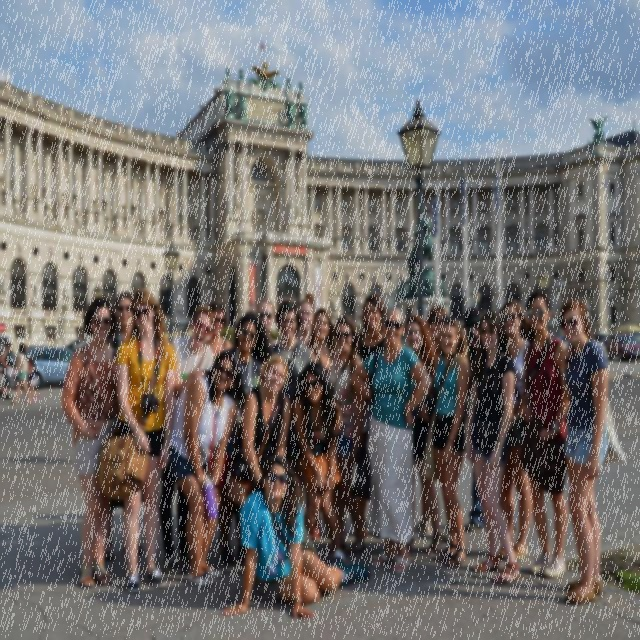pessoa: (218, 450, 374, 622), (97, 284, 180, 597), (346, 303, 434, 576), (556, 293, 628, 609), (166, 346, 247, 592), (60, 294, 125, 592), (514, 284, 573, 581), (463, 304, 524, 588), (160, 304, 218, 578), (419, 312, 474, 574), (218, 309, 273, 566), (291, 358, 347, 574), (321, 311, 369, 556), (103, 290, 144, 560), (494, 294, 534, 562), (224, 353, 292, 508), (403, 313, 443, 562), (349, 293, 387, 541), (460, 304, 490, 535), (270, 298, 312, 462), (305, 306, 337, 374), (206, 299, 235, 362), (422, 302, 452, 357), (254, 296, 284, 348), (10, 340, 34, 404), (294, 292, 318, 349), (24, 356, 38, 404), (223, 83, 234, 126), (284, 94, 296, 128), (236, 88, 248, 122), (300, 99, 310, 129)
